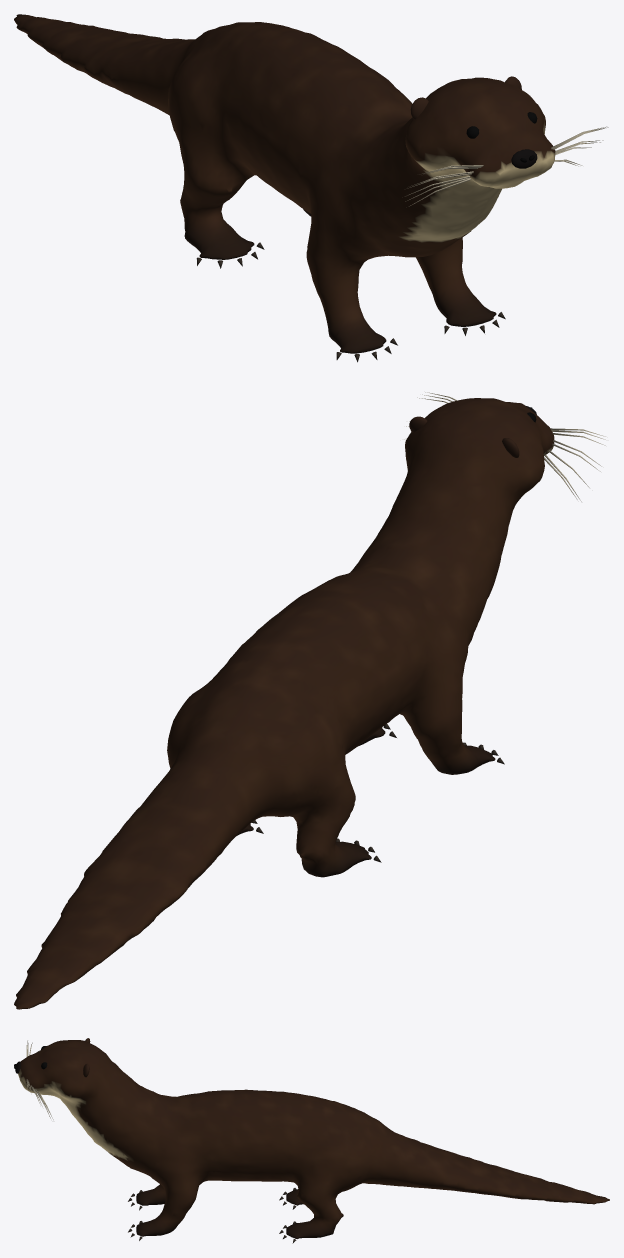
File: GiantOtter.fbx
The picture shows the model from 3 angles, top to bottom: view 1: azimuth 30°, elevation 25°; view 2: azimuth 150°, elevation 25°; view 3: azimuth 270°, elevation 25°; orthographic projection. The views are drawn at different scales.
Visible parts, largest first — view 1: GiantOtter; view 2: GiantOtter; view 3: GiantOtter.
Boxes of the visible parts, x1,y1,x2,y2 form: GiantOtter: [14, 14, 608, 362]; GiantOtter: [14, 392, 605, 1009]; GiantOtter: [14, 1038, 609, 1243].
Bounding box in the file's own units: 0.3593 × 0.5116 × 1.59.
